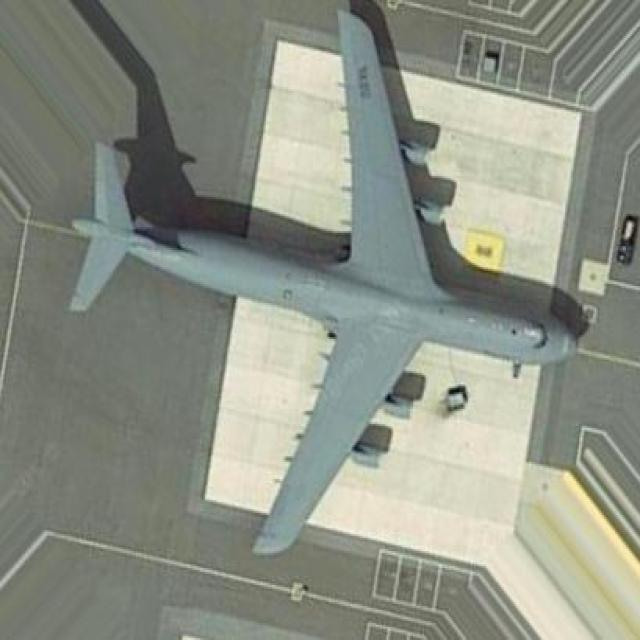C-5_TopDown: (64, 0, 593, 561)
